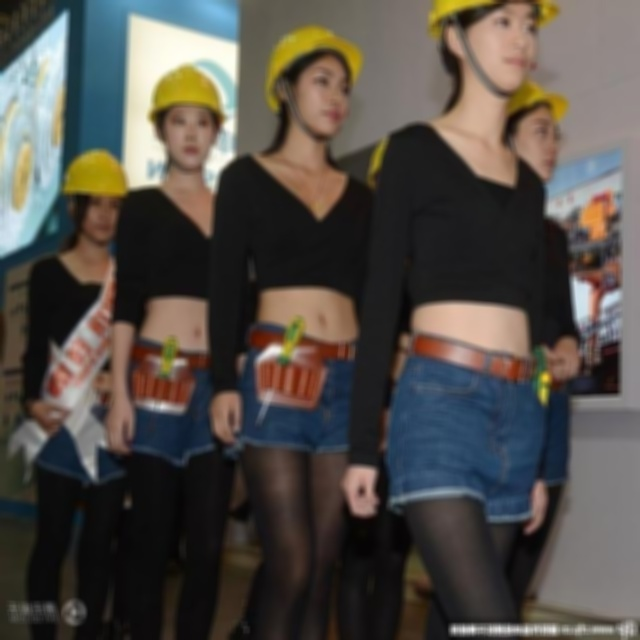Con_Casco: (271, 21, 356, 142), (146, 65, 226, 163)
Sin_Chaleco: (381, 141, 544, 346)
